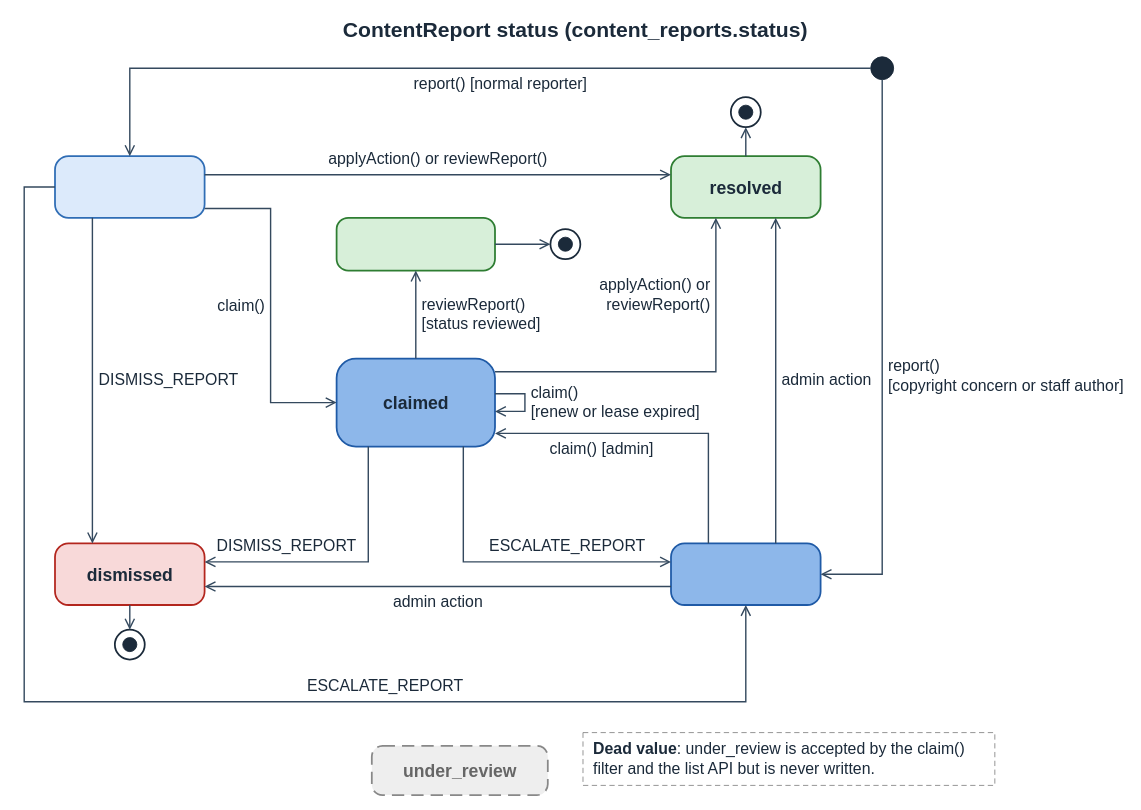
The diagram is 1141 pixels wide and 810 high, and some of its shapes have lost their labels. Each missing label, with the box of its shape:
escalated: (670, 542, 821, 605)
open: (54, 155, 205, 218)
reviewed: (335, 216, 495, 271)
